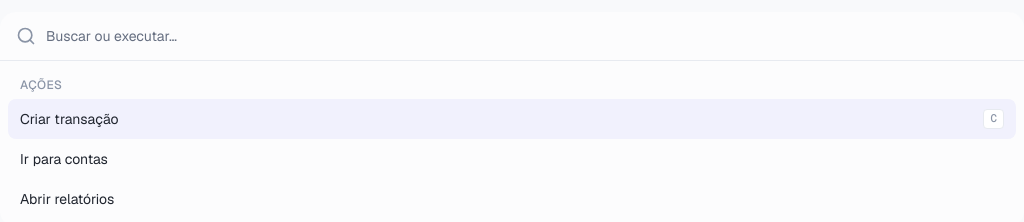
CommandMenu › filters items by the typed query
Type "contas" into the dropdown with placeholder "Buscar ou executar…" at (527, 36), box [46,12,1008,60]
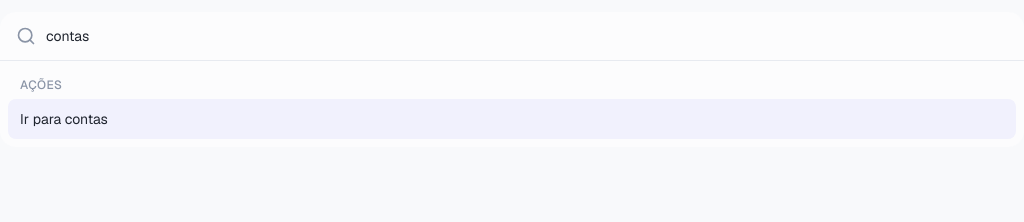
Expected: the option "Ir para contas" is shown, [8,99,1016,139]
Expected: the option "Criar transação" is gone
Expected: the option "Abrir relatórios" is gone
